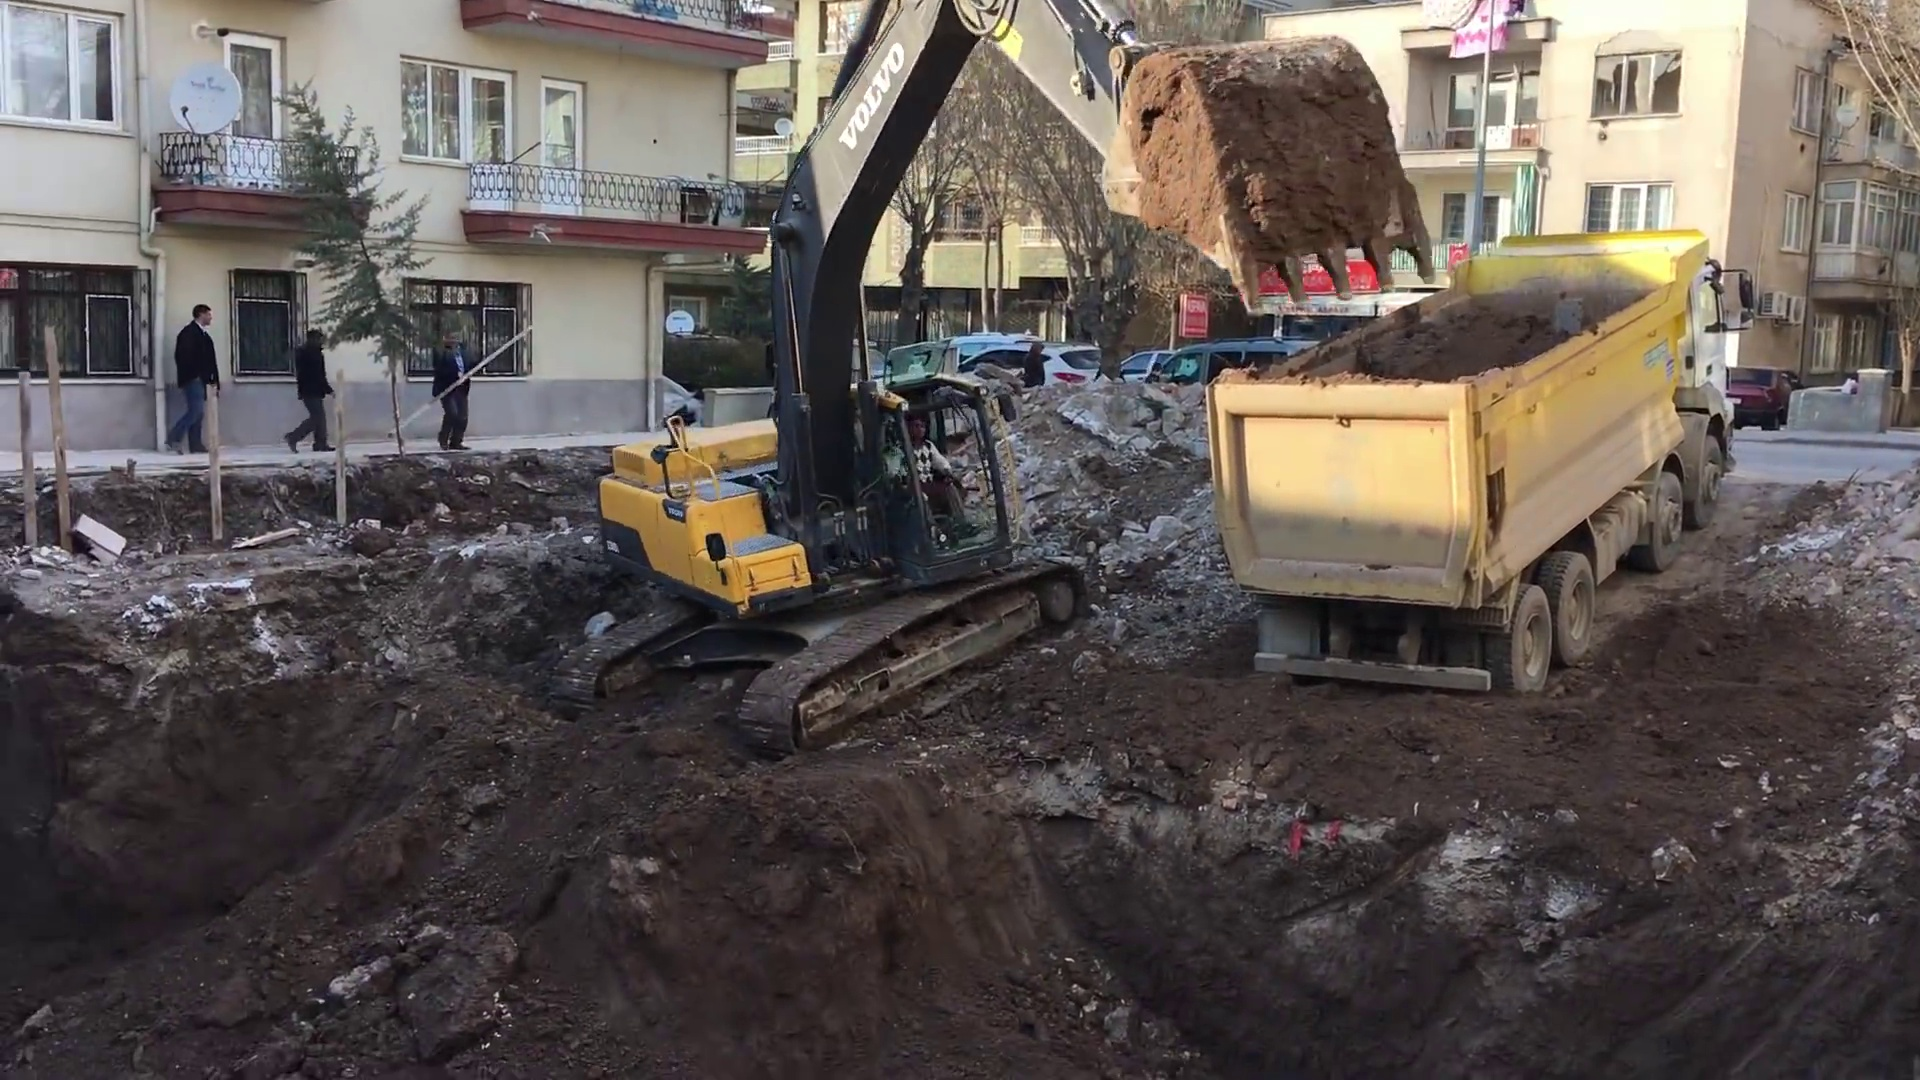car: (1161, 337, 1319, 392), (960, 344, 1103, 404)
excavator: (547, 1, 1432, 750)
person: (173, 301, 218, 461), (288, 329, 337, 450), (435, 331, 470, 447), (1023, 338, 1050, 391)
truck: (1207, 228, 1746, 691)
